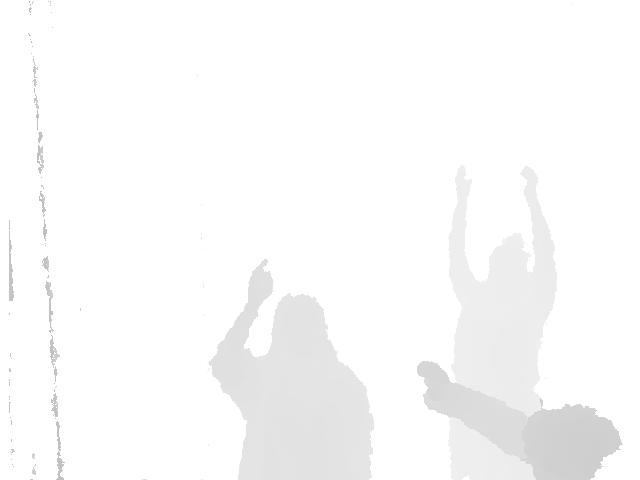hand: (416, 362, 452, 413), (246, 256, 277, 305), (452, 163, 474, 205), (518, 165, 540, 203)
head: (523, 403, 623, 480), (269, 295, 332, 361), (485, 233, 531, 290)
person: (208, 255, 377, 479), (445, 162, 563, 413), (416, 362, 623, 480)
